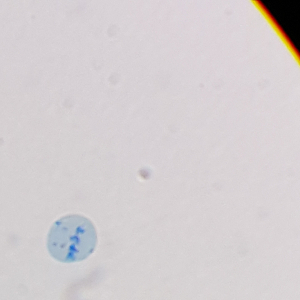aggregate reticulocyte: (45, 213, 100, 264)
